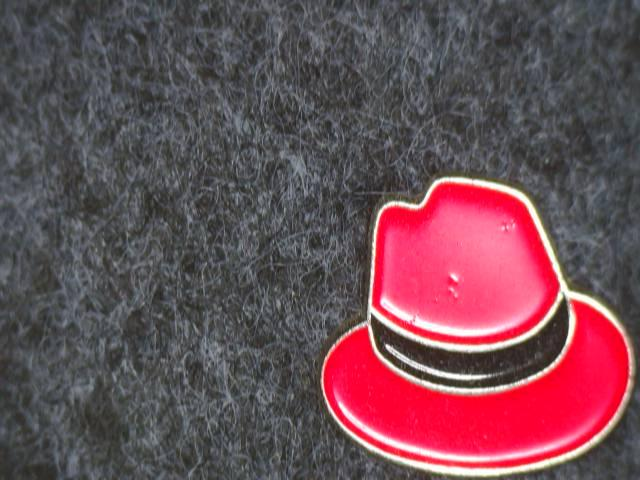Red-Hat: (292, 152, 640, 480)
